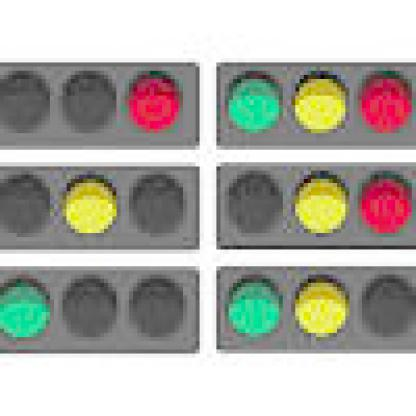traffic-light: (224, 62, 412, 146), (8, 270, 196, 354), (229, 270, 412, 350), (4, 166, 192, 242), (233, 162, 408, 242), (8, 67, 196, 137)
